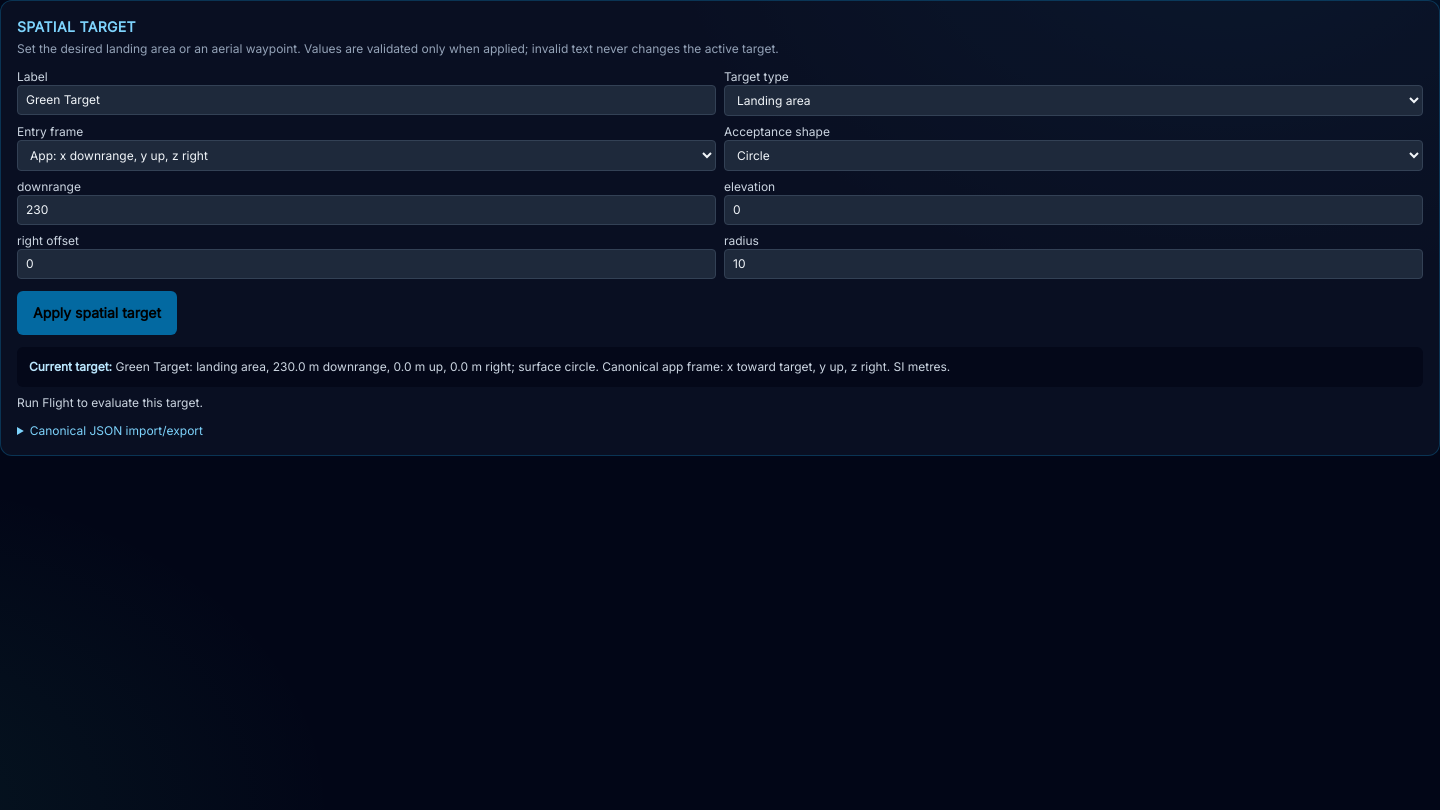
SpatialTargetSection › associates an error, focuses its field, and supports keyboard submission
Replace the text in the field named "Target downrange m" with "invalid": (366, 210) [17,195,716,225]
Then press Enter
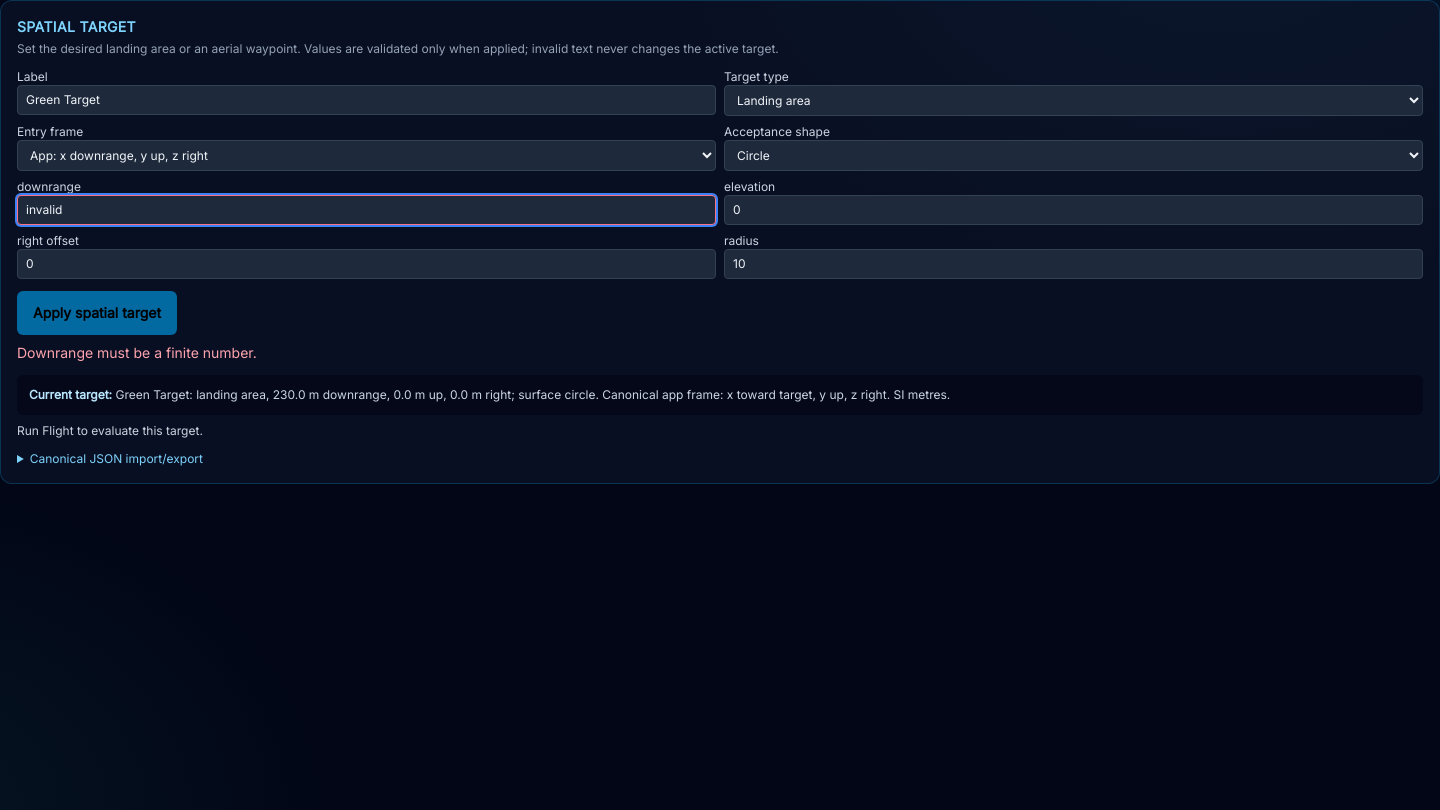
Expected: the message "Downrange must be a finite number." is shown, [17,344,257,361]
